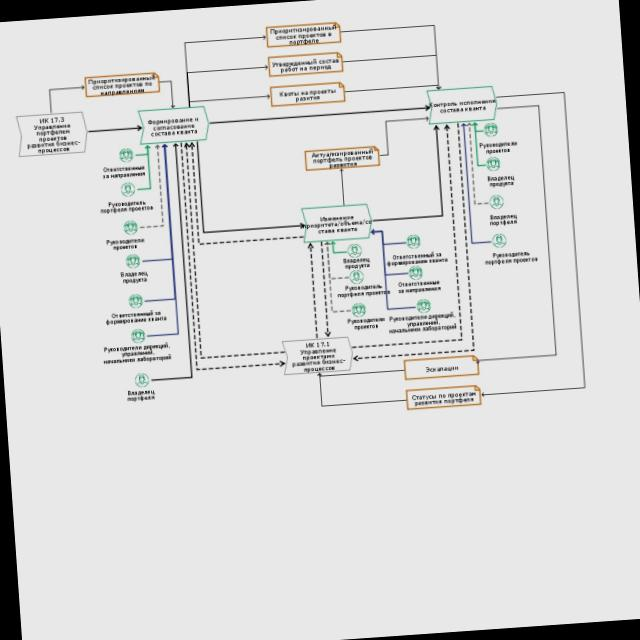arrow: (194, 134, 305, 235), (339, 18, 442, 96), (370, 226, 412, 312), (376, 114, 432, 158), (306, 243, 322, 339), (318, 240, 332, 338), (188, 92, 270, 106), (48, 84, 86, 112), (134, 144, 154, 191), (86, 122, 142, 135), (472, 120, 487, 168), (159, 78, 176, 108), (337, 168, 347, 205)
circle: (135, 372, 150, 388), (349, 270, 364, 284), (124, 220, 138, 235), (126, 254, 140, 268), (121, 183, 135, 197), (119, 148, 133, 162), (352, 303, 366, 317), (409, 266, 423, 280), (348, 244, 362, 257), (490, 196, 504, 209), (484, 123, 497, 136), (407, 235, 420, 248), (417, 300, 431, 312), (492, 235, 506, 247), (131, 330, 145, 342), (487, 157, 499, 170), (130, 295, 143, 307)
rectangle: (14, 110, 88, 157), (300, 202, 372, 242), (139, 106, 209, 144), (428, 86, 496, 124), (283, 338, 352, 374), (85, 73, 160, 97), (404, 355, 479, 379), (306, 146, 380, 170), (406, 386, 481, 409), (266, 23, 341, 46), (270, 83, 344, 106), (269, 53, 343, 76)
text_region: (100, 343, 174, 365), (102, 307, 168, 326), (98, 197, 154, 216), (100, 163, 146, 180), (102, 235, 146, 252), (126, 386, 158, 404), (118, 269, 150, 285)
